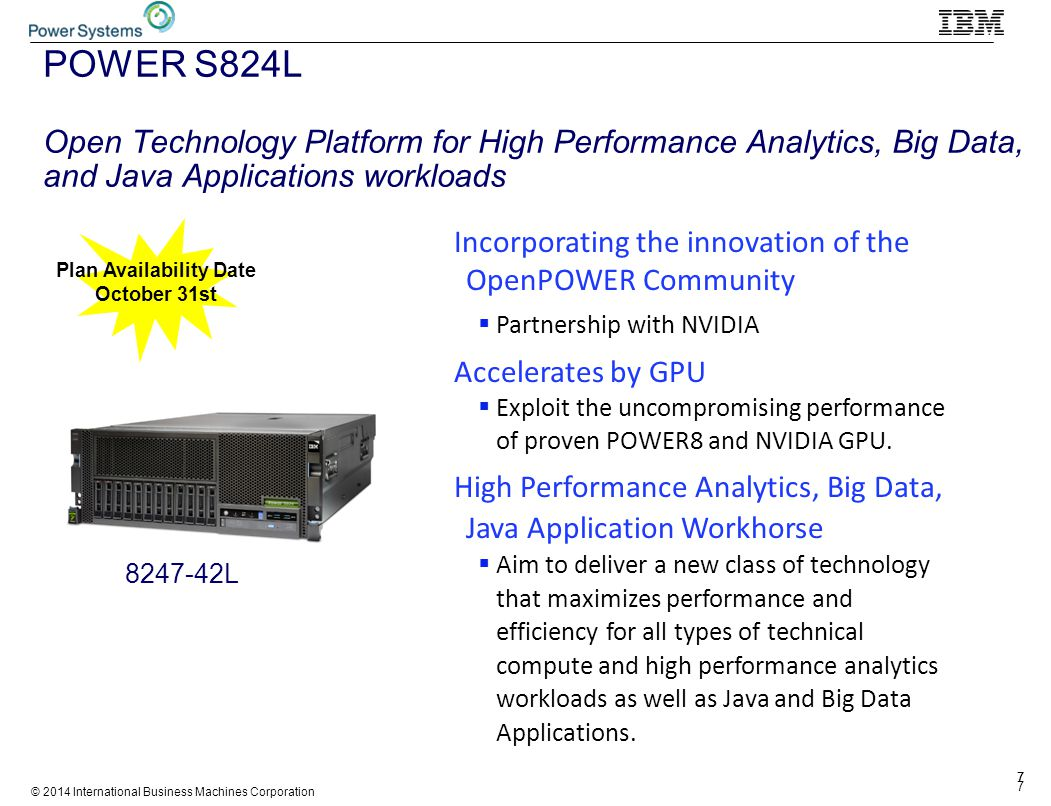ibm-server: (53, 407, 386, 552)
